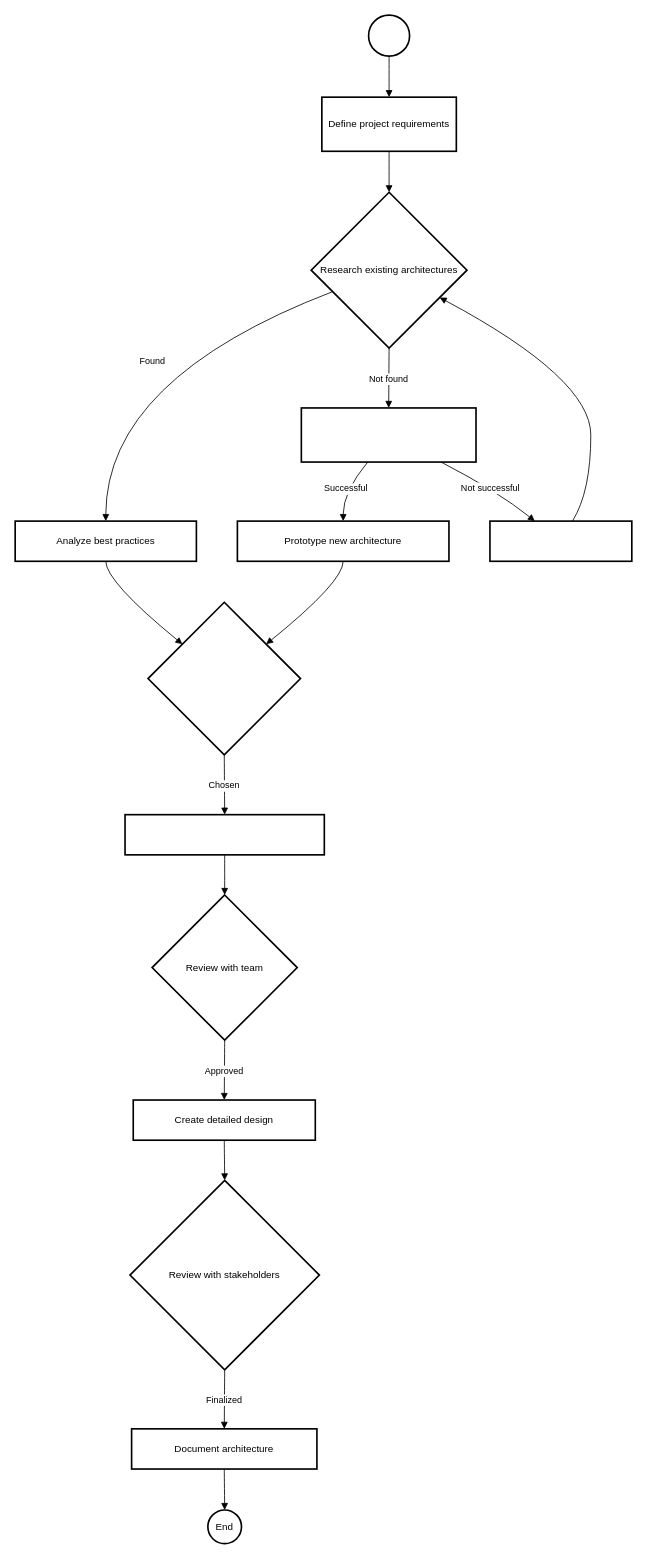
Some shapes in this 646 by 1558 pixel diagram are drawn without their labels. Each missing label, with the centre of its shape:
"Develop high-level design" goes at (x=224, y=834).
"Experiment with new approaches" goes at (x=388, y=434).
"Revisit research" goes at (x=560, y=541).
"Select architecture" goes at (x=224, y=678).
"Start" goes at (x=388, y=35).
